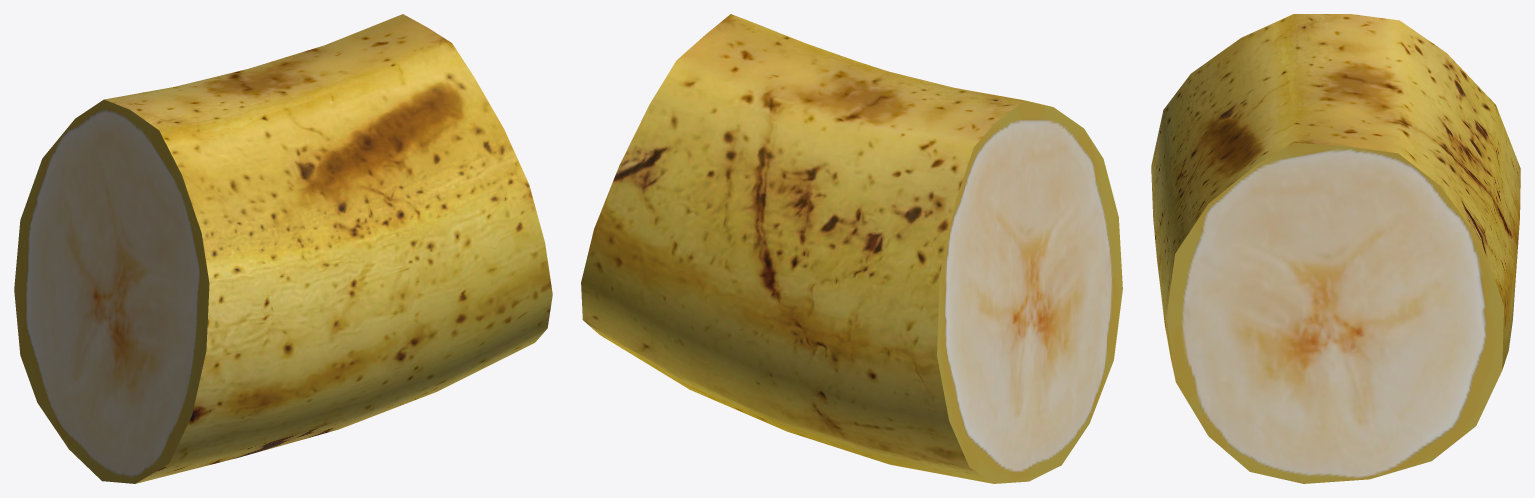
Rendered from BananaBonus_03.fbx.
3 renders of one model, left to right at view 1: azimuth 30°, elevation 25°; view 2: azimuth 150°, elevation 25°; view 3: azimuth 270°, elevation 25°, orthographic.
Parts seen in each view (by area): view 1: BananaBonus_03; view 2: BananaBonus_03; view 3: BananaBonus_03.
Boxes of the visible parts, x1,y1,x2,y2 form: BananaBonus_03: (14,14,552,483); BananaBonus_03: (581,14,1122,483); BananaBonus_03: (1151,14,1520,483).
Bounding box in the file's own units: 0.4073 × 0.3514 × 0.3199.
1 material, 1 textured.
